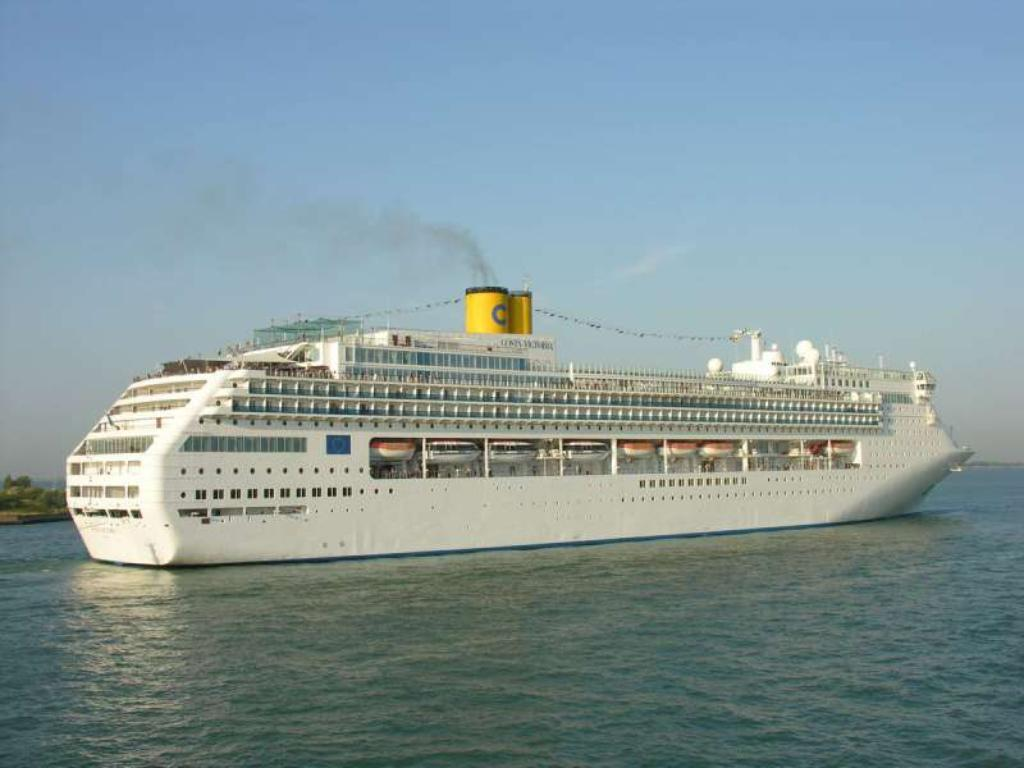PassengerShip: (62, 272, 988, 574)
